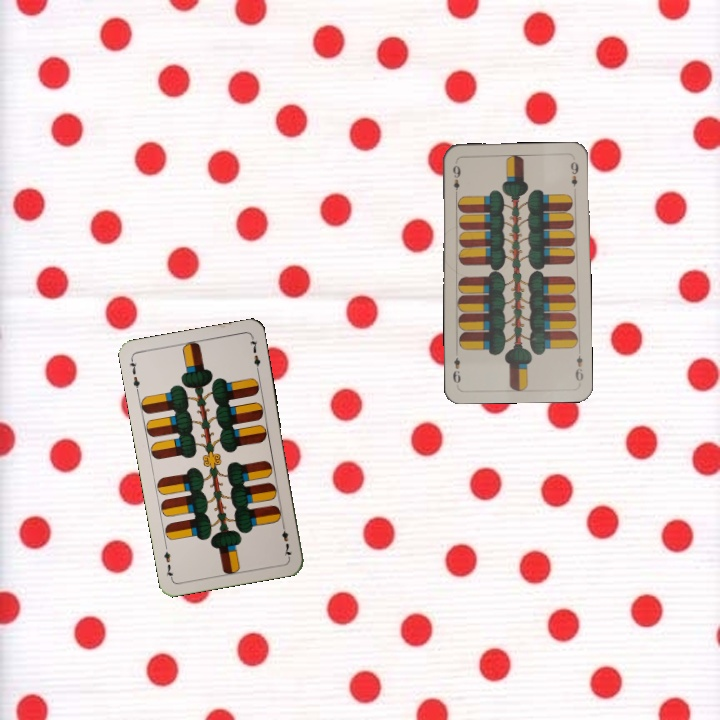E7: (125, 355, 143, 395), (277, 519, 294, 560)
E9: (571, 351, 586, 384), (449, 161, 463, 192)
